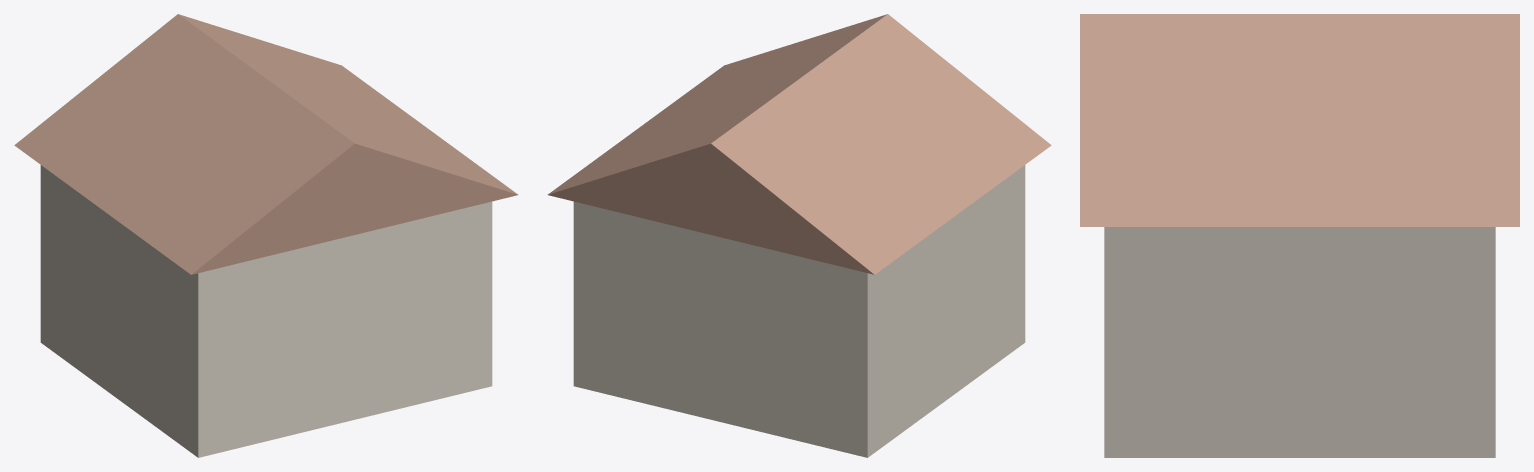
File: workshop.glb
3 views of the same model, side by side, from view 1: azimuth 30°, elevation 25°; view 2: azimuth 150°, elevation 25°; view 3: azimuth 270°, elevation 25° (orthographic). The views are drawn at different scales.
Parts seen in each view (by area): view 1: workshop; view 2: workshop; view 3: workshop.
Part boxes in pixels (<box>): workshop: <box>14,14,518,457</box>; workshop: <box>547,14,1051,457</box>; workshop: <box>1080,14,1519,457</box>.
Bounding box in the file's own units: 7.8 × 6.5 × 7.3.
